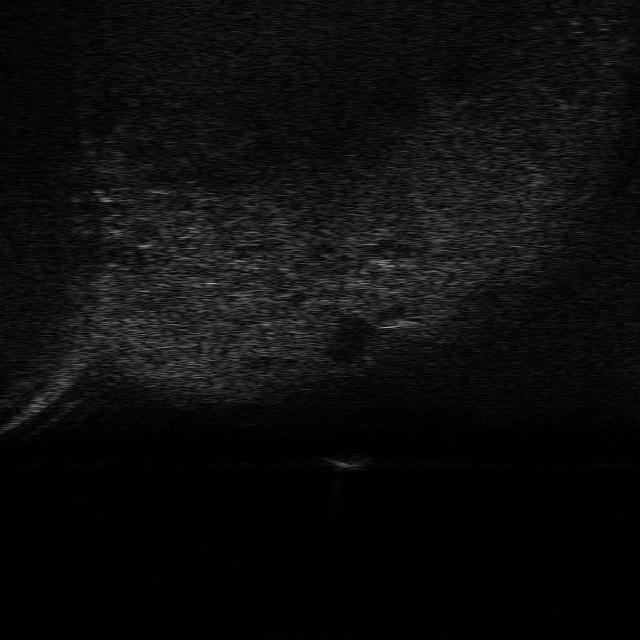cube: (324, 455, 378, 472)
